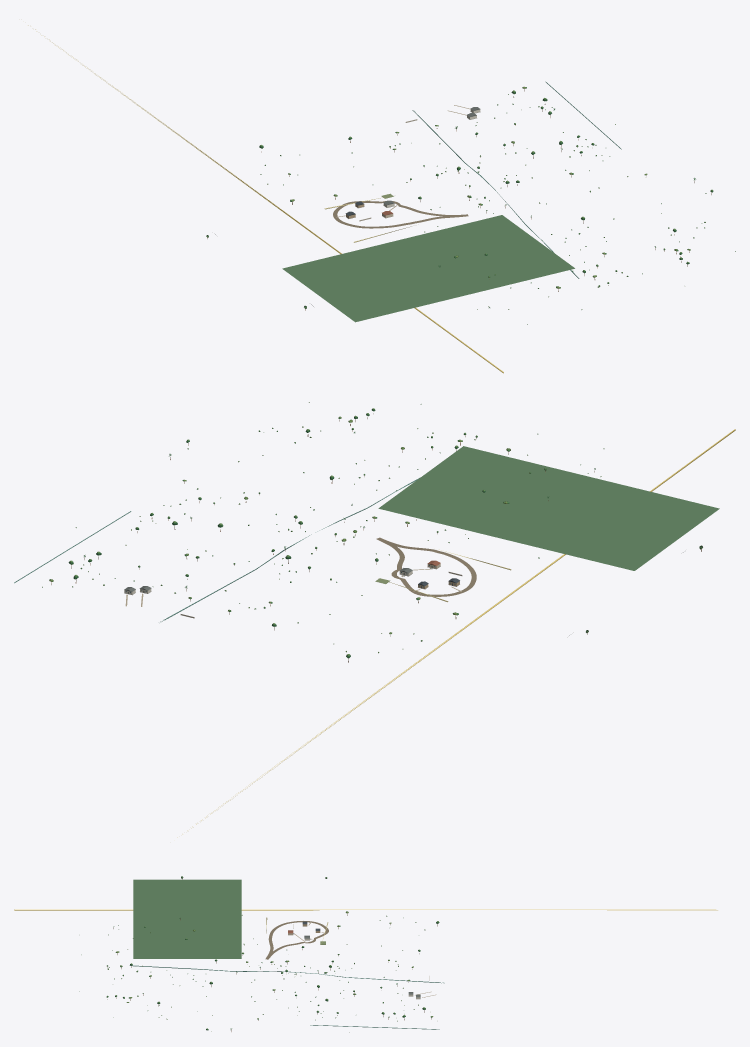
The model's file is cell_5_-2_lod1.gltf.
3 views of the same model, one above another, from view 1: azimuth 30°, elevation 25°; view 2: azimuth 150°, elevation 25°; view 3: azimuth 270°, elevation 25° (orthographic). The views are drawn at different scales.
Visible parts, largest first — view 1: OPENSPACE_2650, EKITI_RESERVE_BOUNDARY_REVIEW_V1, LANE_WEST_TERRACE_LOOP; view 2: OPENSPACE_2650, EKITI_RESERVE_BOUNDARY_REVIEW_V1, LANE_WEST_TERRACE_LOOP; view 3: OPENSPACE_2650, EKITI_RESERVE_BOUNDARY_REVIEW_V1, LANE_WEST_TERRACE_LOOP, EKITI_DRAINAGE_VALLEY_GUIDE_A.
Part boxes in pixels (x1=…): OPENSPACE_2650: x1=282, y1=215, x2=574, y2=322; EKITI_RESERVE_BOUNDARY_REVIEW_V1: x1=28, y1=25, x2=503, y2=373; LANE_WEST_TERRACE_LOOP: x1=333, y1=201, x2=468, y2=228; OPENSPACE_2650: x1=378, y1=446, x2=719, y2=570; EKITI_RESERVE_BOUNDARY_REVIEW_V1: x1=177, y1=429, x2=735, y2=837; LANE_WEST_TERRACE_LOOP: x1=376, y1=537, x2=476, y2=596; OPENSPACE_2650: x1=133, y1=879, x2=241, y2=958; EKITI_RESERVE_BOUNDARY_REVIEW_V1: x1=14, y1=909, x2=717, y2=910; LANE_WEST_TERRACE_LOOP: x1=265, y1=921, x2=328, y2=959; EKITI_DRAINAGE_VALLEY_GUIDE_A: x1=129, y1=965, x2=444, y2=983.
Size of the model in its own units: 503 by 19.86 by 1001.
32 materials, 5 textured.
